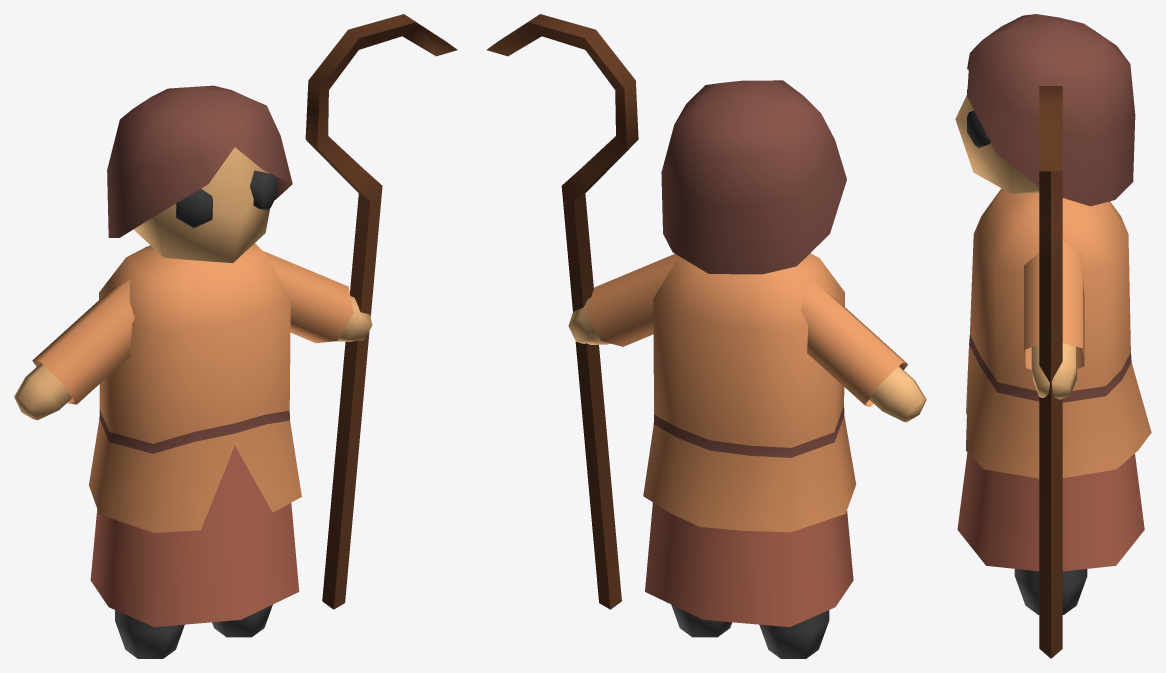
Rendered from Shepherd.glb.
3 views of the same model, side by side, from view 1: azimuth 30°, elevation 25°; view 2: azimuth 150°, elevation 25°; view 3: azimuth 270°, elevation 25° (orthographic).
Parts seen in each view (by area): view 1: Shepherd, Cylinder; view 2: Shepherd, Cylinder; view 3: Shepherd, Cylinder.
Boxes of the visible parts, box(x1,y1,x2,y2) form: Shepherd: box(14, 85, 372, 658); Cylinder: box(305, 14, 457, 609); Shepherd: box(568, 80, 926, 658); Cylinder: box(487, 14, 638, 609); Shepherd: box(955, 14, 1151, 614); Cylinder: box(1039, 86, 1062, 658).
Size of the model in its own units: 1.36 by 1.72 by 0.5231.
